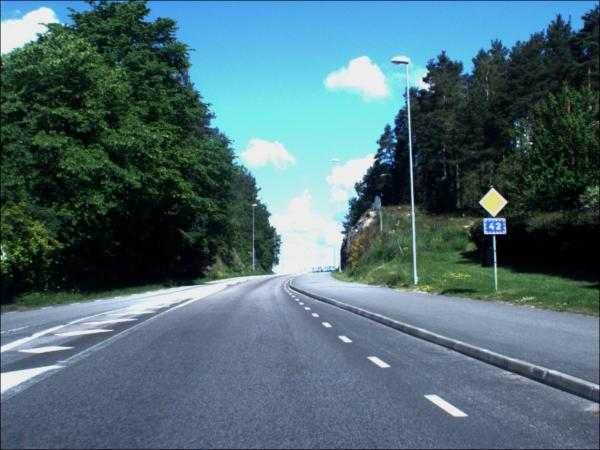PRIORITY_ROAD: (479, 188, 510, 219)
